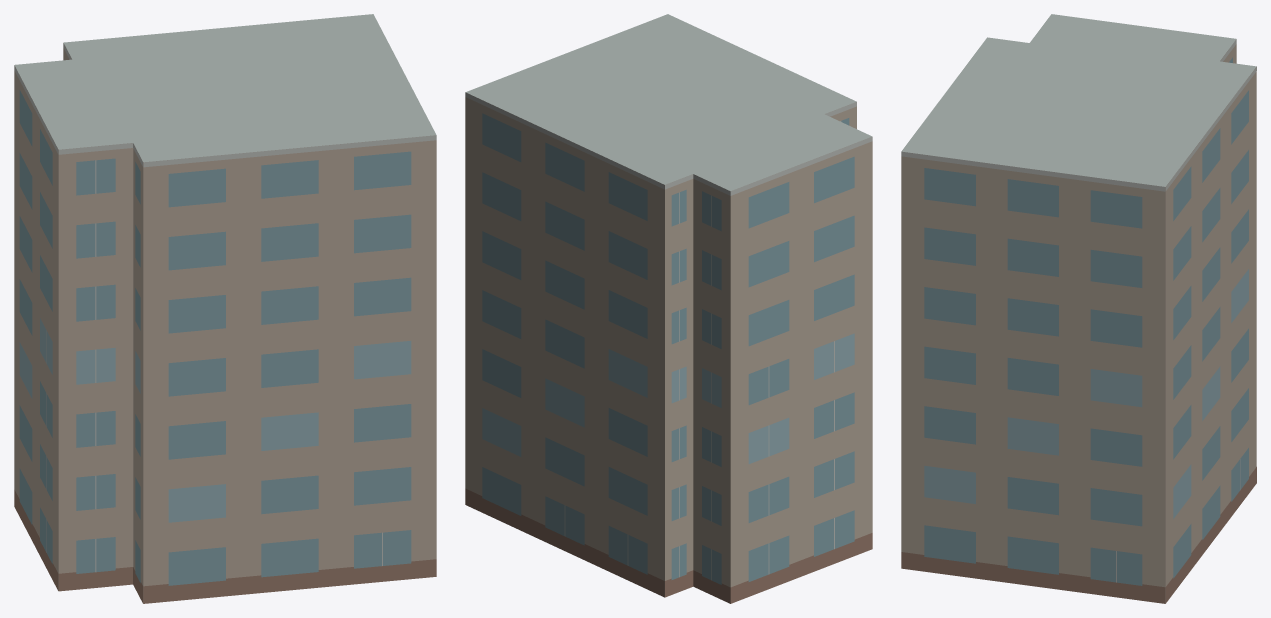
File: survey-upis-32742315.glb
3 views of the same model, side by side, from view 1: azimuth 30°, elevation 25°; view 2: azimuth 150°, elevation 25°; view 3: azimuth 270°, elevation 25° (orthographic). The views are drawn at different scales.
Visible parts, largest first — view 1: survey-upis-32742315.tmp; view 2: survey-upis-32742315.tmp; view 3: survey-upis-32742315.tmp.
Part boxes in pixels (x1,y1,x2,y2): survey-upis-32742315.tmp: (14, 14, 436, 603); survey-upis-32742315.tmp: (465, 14, 872, 603); survey-upis-32742315.tmp: (901, 14, 1256, 603).
Bounding box in the file's own units: 19 × 21.35 × 16.51.
